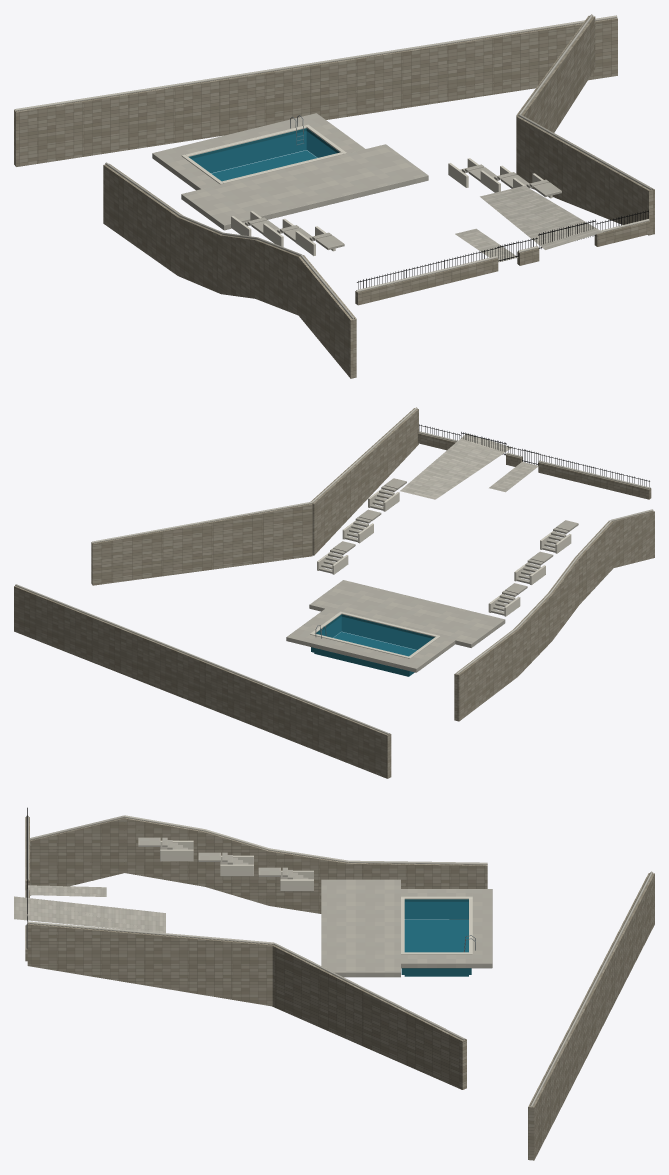
File: villa-garden-ground.glb
3 renders of one model, top to bottom at view 1: azimuth 30°, elevation 25°; view 2: azimuth 150°, elevation 25°; view 3: azimuth 270°, elevation 25°, orthographic. The views are drawn at different scales.
Parts seen in each view (by area): view 1: Rear CAD retaining wall, Pool terrace, East elevated neighbor retaining wall, West CAD retaining wall.004, East diagonal CAD retaining wall, West CAD retaining wall, Garage drive coursed stone, Pool water, West CAD retaining wall.003, West CAD retaining wall.001, Pool lining.003, West CAD retaining wall.002 (+8 smaller); view 2: Rear CAD retaining wall, East diagonal CAD retaining wall, Pool terrace, East elevated neighbor retaining wall, West CAD retaining wall.004, Garage drive coursed stone, Pool water, West CAD retaining wall, West CAD retaining wall.001, West CAD retaining wall.003, Pool terrace.001, Pool lining.002 (+7 smaller); view 3: East elevated neighbor retaining wall, East diagonal CAD retaining wall, Pool terrace, Rear CAD retaining wall, West CAD retaining wall, West CAD retaining wall.001, Garage drive coursed stone, Pool water, West CAD retaining wall.004, West CAD retaining wall.003, West CAD retaining wall.002, Pool basin floor (+8 smaller).
Boxes of the visible parts, x1,y1,x2,y2 form: Rear CAD retaining wall: (14,17,617,166); Pool terrace: (181,144,428,230); East elevated neighbor retaining wall: (516,115,654,235); West CAD retaining wall.004: (103,163,182,275); East diagonal CAD retaining wall: (516,15,595,173); West CAD retaining wall: (298,255,356,378); Garage drive coursed stone: (480,185,602,249); Pool water: (192,131,336,180); West CAD retaining wall.003: (177,217,222,293); West CAD retaining wall.001: (255,239,303,315); Pool lining.003: (189,128,306,172); West CAD retaining wall.002: (221,235,256,298); Rear CAD retaining wall: (14,586,391,778); East diagonal CAD retaining wall: (91,503,312,585); Pool terrace: (309,580,505,647); East elevated neighbor retaining wall: (310,408,418,555); West CAD retaining wall.004: (454,629,517,721); Garage drive coursed stone: (400,433,511,499); Pool water: (318,616,432,655); West CAD retaining wall: (609,511,654,567); West CAD retaining wall.001: (575,521,613,604); West CAD retaining wall.003: (513,593,552,676); Pool terrace.001: (286,631,424,672); Pool lining.002: (341,614,434,649); East elevated neighbor retaining wall: (27,923,273,1006); East diagonal CAD retaining wall: (272,943,466,1089); Pool terrace: (321,879,400,977); Rear CAD retaining wall: (528,873,654,1160); West CAD retaining wall: (30,817,124,895); West CAD retaining wall.001: (124,817,204,886); Garage drive coursed stone: (14,896,165,933); Pool water: (405,902,468,951); West CAD retaining wall.004: (349,863,487,919); West CAD retaining wall.003: (269,850,349,913); West CAD retaining wall.002: (205,831,269,905); Pool basin floor: (404,920,468,976).
Bounding box in the file's own units: 36.02 × 9.58 × 39.97.
8 materials, 8 textured.
